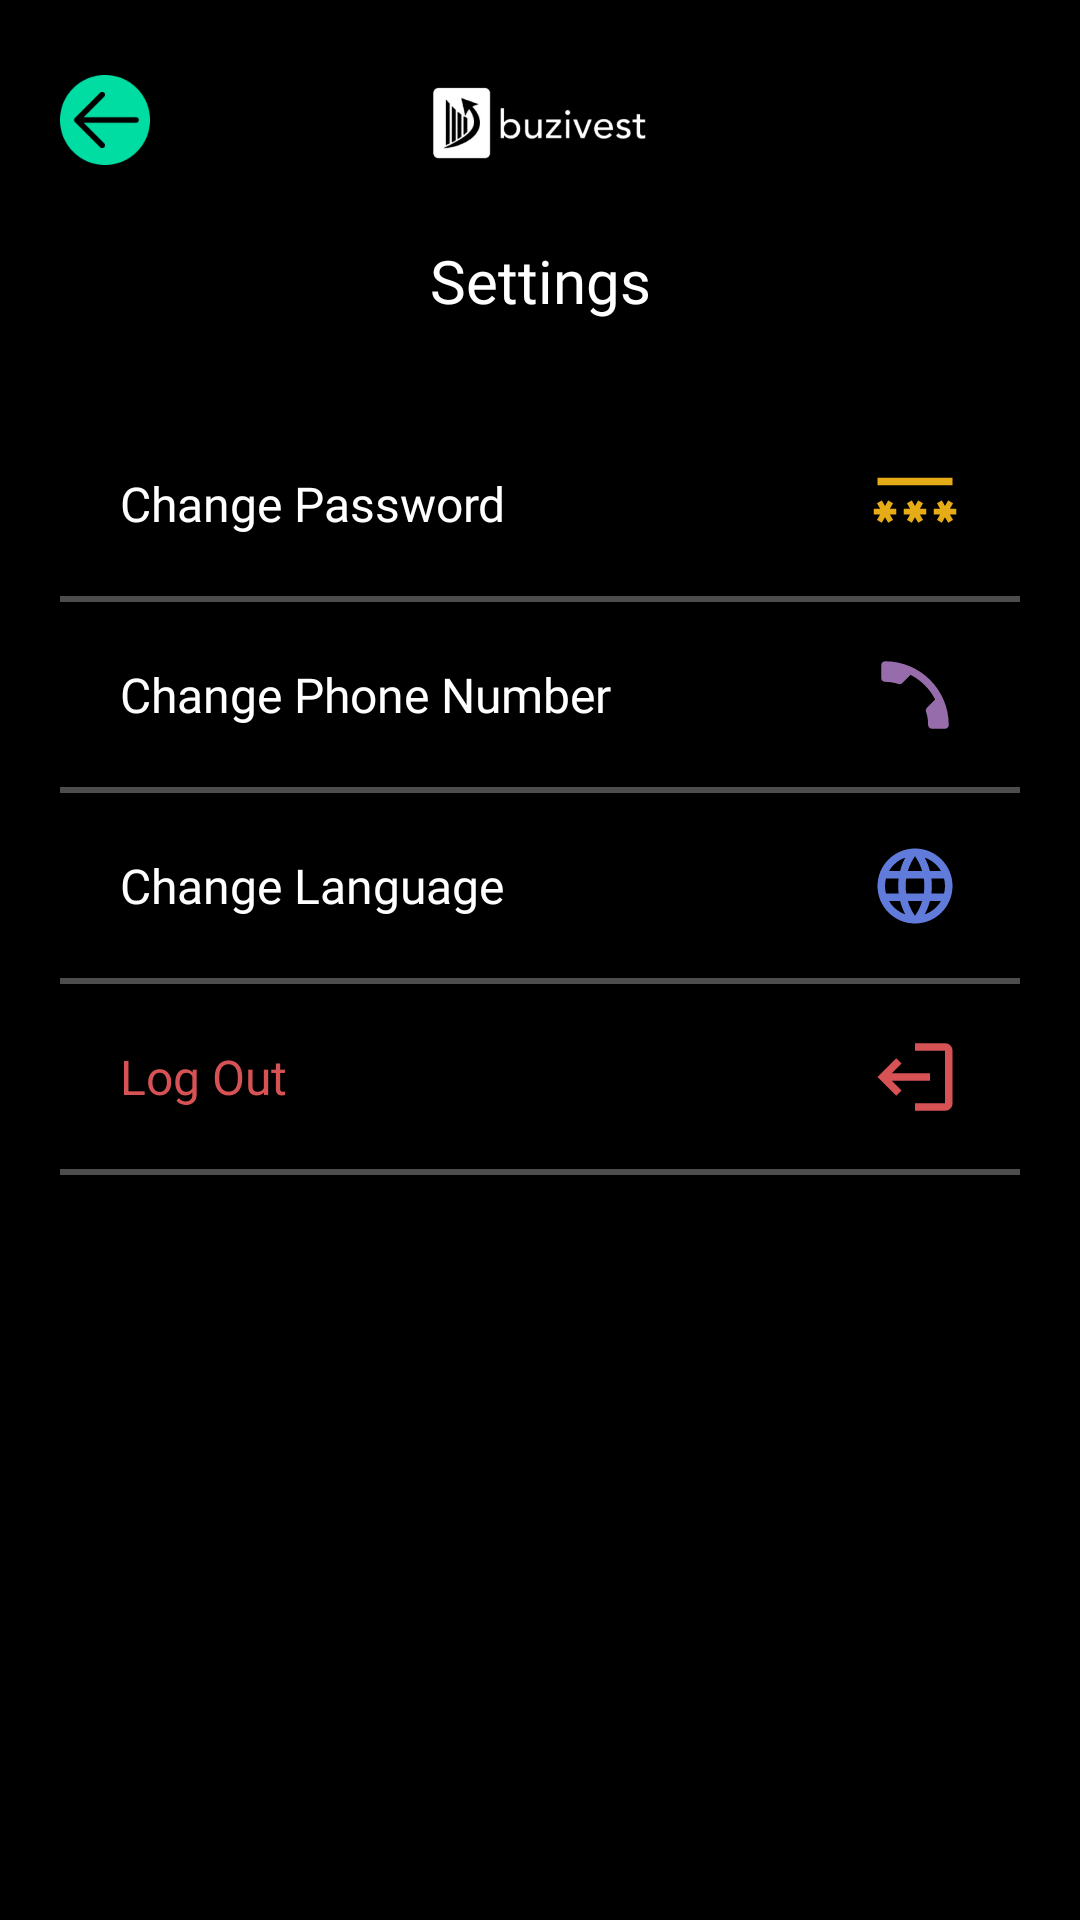

Named icons in this screenshot (1080px×1920px) and their centers, (x=x, y=y):
detail back: (x=105, y=120)
